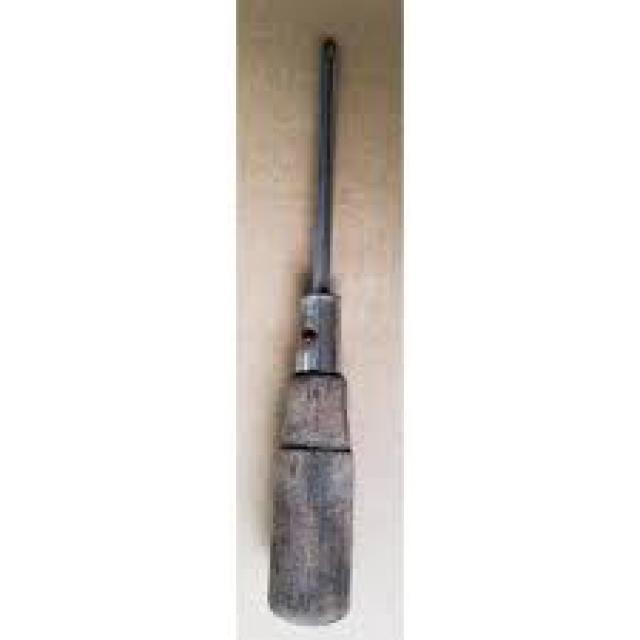screwdriver: (257, 30, 360, 633)
